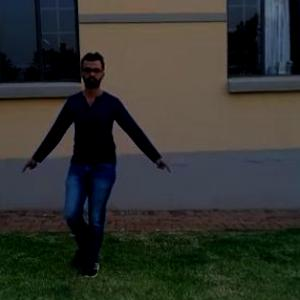land: (28, 69, 157, 247)
